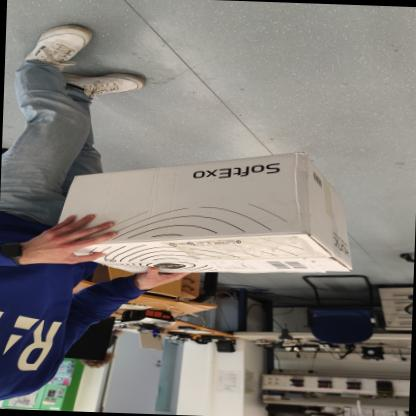box: (56, 141, 363, 284)
